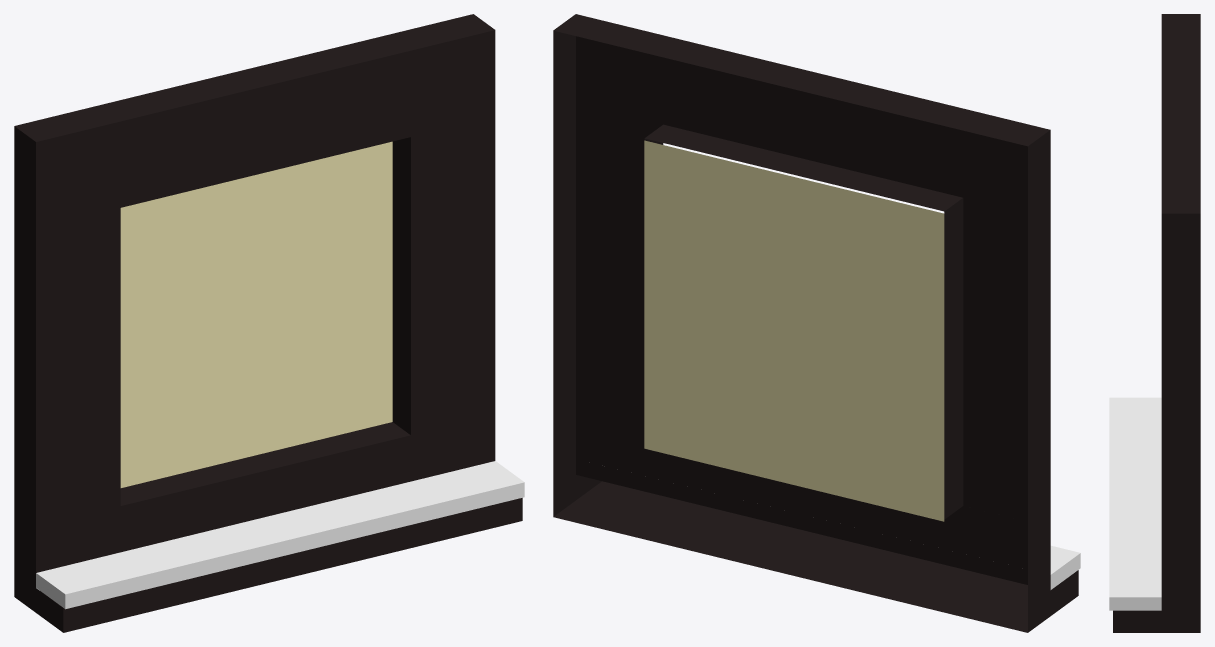
File: window1.FBX
3 renders of one model, left to right at view 1: azimuth 30°, elevation 25°; view 2: azimuth 150°, elevation 25°; view 3: azimuth 270°, elevation 25°, orthographic. The views are drawn at different scales.
Parts seen in each view (by area): view 1: windowA_011, window_light008, windowA_000; view 2: windowA_011, window_light008, windowA_000; view 3: windowA_011, windowA_000.
Part boxes in pixels (bbox=[...]): windowA_011: bbox=[14, 14, 522, 632]; window_light008: bbox=[120, 141, 392, 487]; windowA_000: bbox=[36, 461, 524, 609]; windowA_011: bbox=[553, 14, 1078, 632]; window_light008: bbox=[644, 140, 944, 521]; windowA_000: bbox=[1050, 545, 1080, 589]; windowA_011: bbox=[1113, 14, 1200, 632]; windowA_000: bbox=[1109, 397, 1161, 610].
Bounding box in the file's own units: 96.73 × 94.75 × 18.68.
